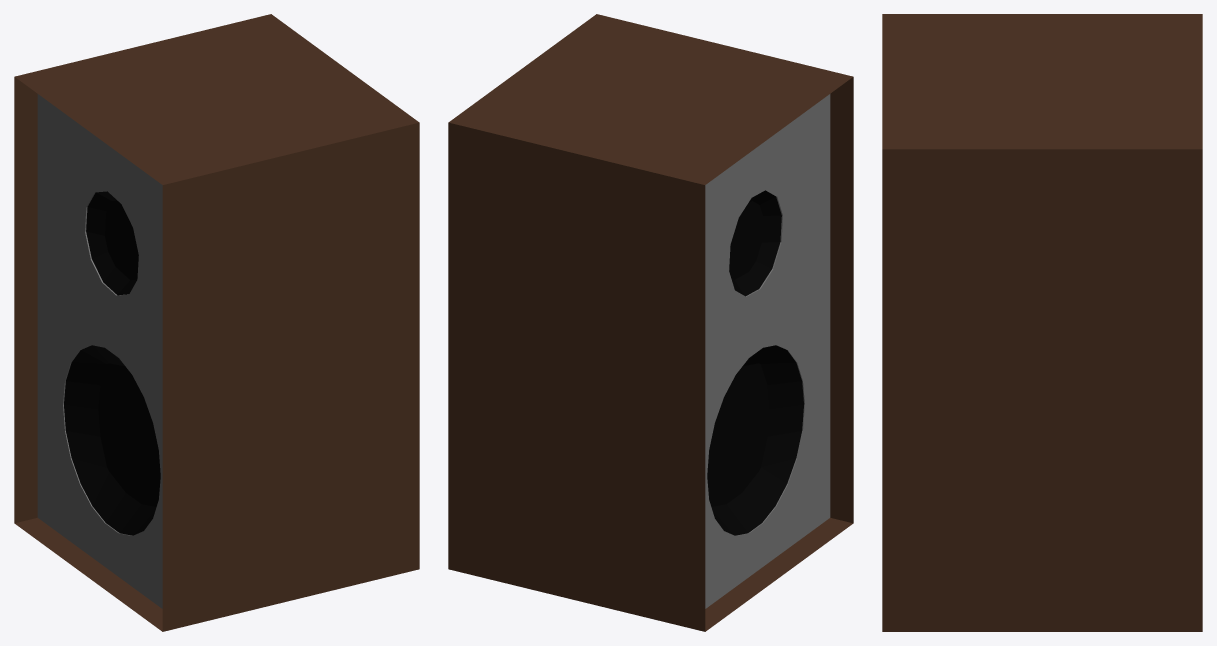
Rendered from glosnik.fbx.
The picture shows the model from 3 angles, left to right: view 1: azimuth 30°, elevation 25°; view 2: azimuth 150°, elevation 25°; view 3: azimuth 270°, elevation 25°; orthographic projection. The views are drawn at different scales.
Visible parts, largest first — view 1: GLOSNIK; view 2: GLOSNIK; view 3: GLOSNIK.
Part boxes in pixels (x1,y1,x2,y2): GLOSNIK: (14, 14, 419, 631); GLOSNIK: (448, 14, 853, 631); GLOSNIK: (882, 14, 1202, 631).
Size of the model in its own units: 195 by 324 by 195.
